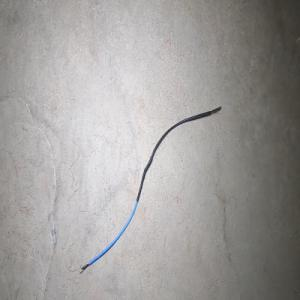Wire: (78, 105, 221, 274)
